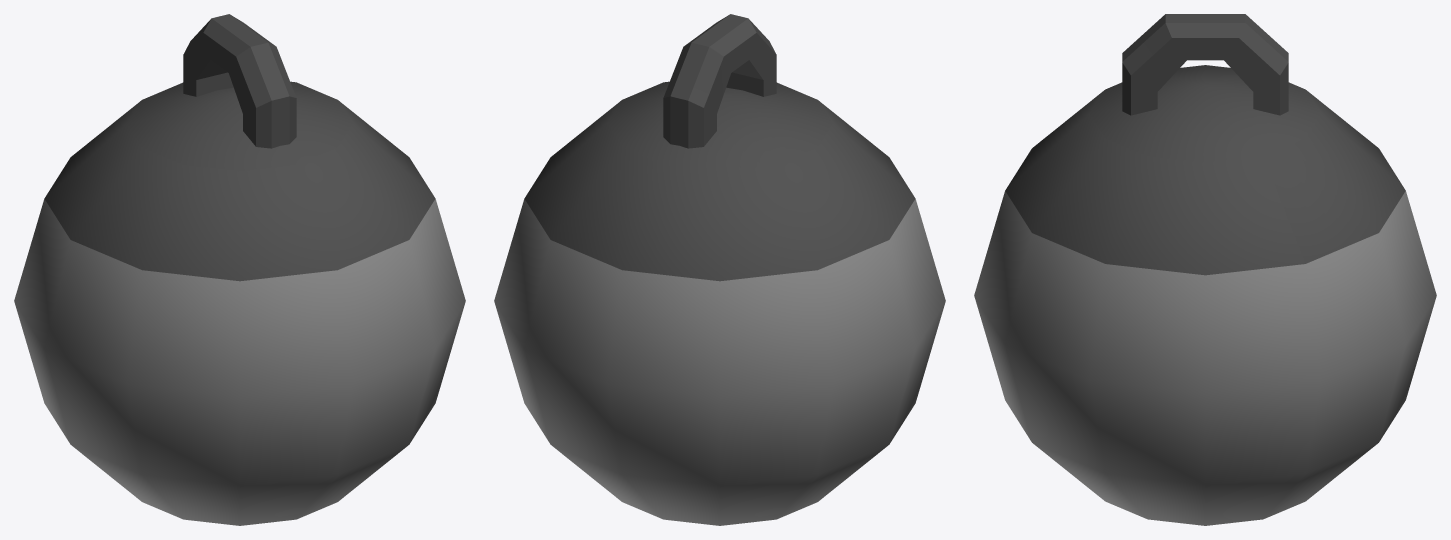
File: prop_45.FBX
3 views of the same model, side by side, from view 1: azimuth 30°, elevation 25°; view 2: azimuth 150°, elevation 25°; view 3: azimuth 270°, elevation 25° (orthographic). The views are drawn at different scales.
Visible parts, largest first — view 1: prop_45; view 2: prop_45; view 3: prop_45.
Part boxes in pixels (x1,y1,x2,y2): prop_45: (14, 14, 465, 525); prop_45: (494, 14, 945, 525); prop_45: (974, 14, 1436, 525).
Size of the model in its own units: 21.11 by 24.5 by 21.11.
